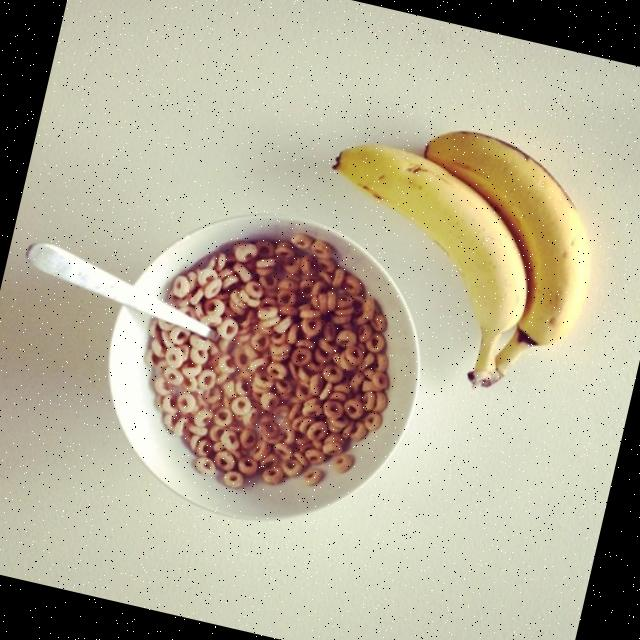banana: (331, 140, 529, 385), (419, 127, 593, 347)
